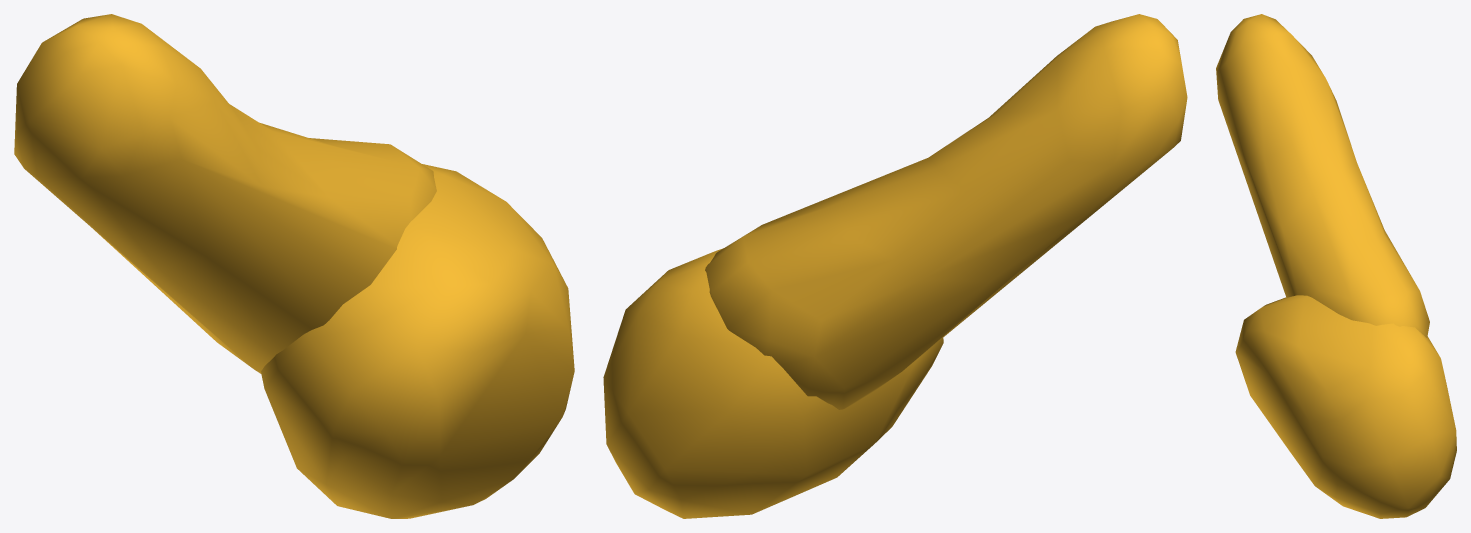
Rendered from nervoso-inferior-colliculus-r.glb.
3 views of the same model, side by side, from view 1: azimuth 30°, elevation 25°; view 2: azimuth 150°, elevation 25°; view 3: azimuth 270°, elevation 25° (orthographic). The views are drawn at different scales.
Visible parts, largest first — view 1: Inferior colliculus.r; view 2: Inferior colliculus.r; view 3: Inferior colliculus.r.
Part boxes in pixels (bbox=[...]): Inferior colliculus.r: bbox=[14, 14, 574, 518]; Inferior colliculus.r: bbox=[603, 14, 1187, 518]; Inferior colliculus.r: bbox=[1216, 14, 1456, 518].
Size of the model in its own units: 0.0141 by 0.0141 by 0.00825.
